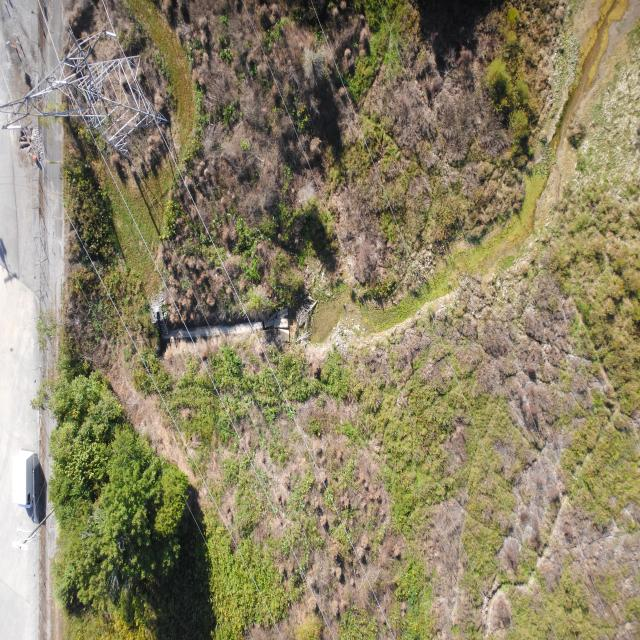Area of Interest: (70, 372, 180, 622)
